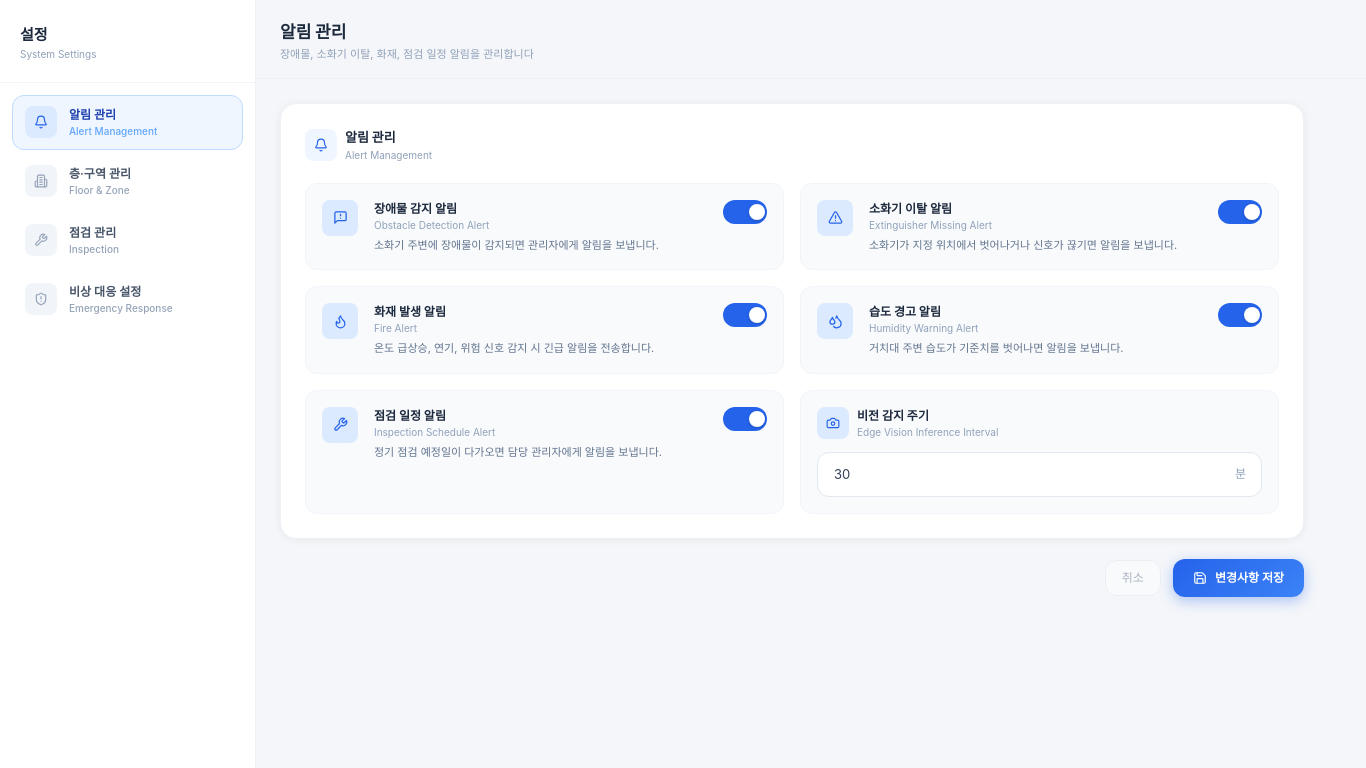
Scenario: Settings › enables the cancel button only after a toggle is changed, and cancel reverts it
Expected: the text "장애물 감지 알림" is shown, [374,200,457,216]
Expected: the button "취소" is disabled, [1105,560,1161,596]
What coordinates should you click on to do the following:
click the button without text in the row of "화재 발생 알림"
I would click on:
 (745, 315)
Its box is [723,303,767,327].
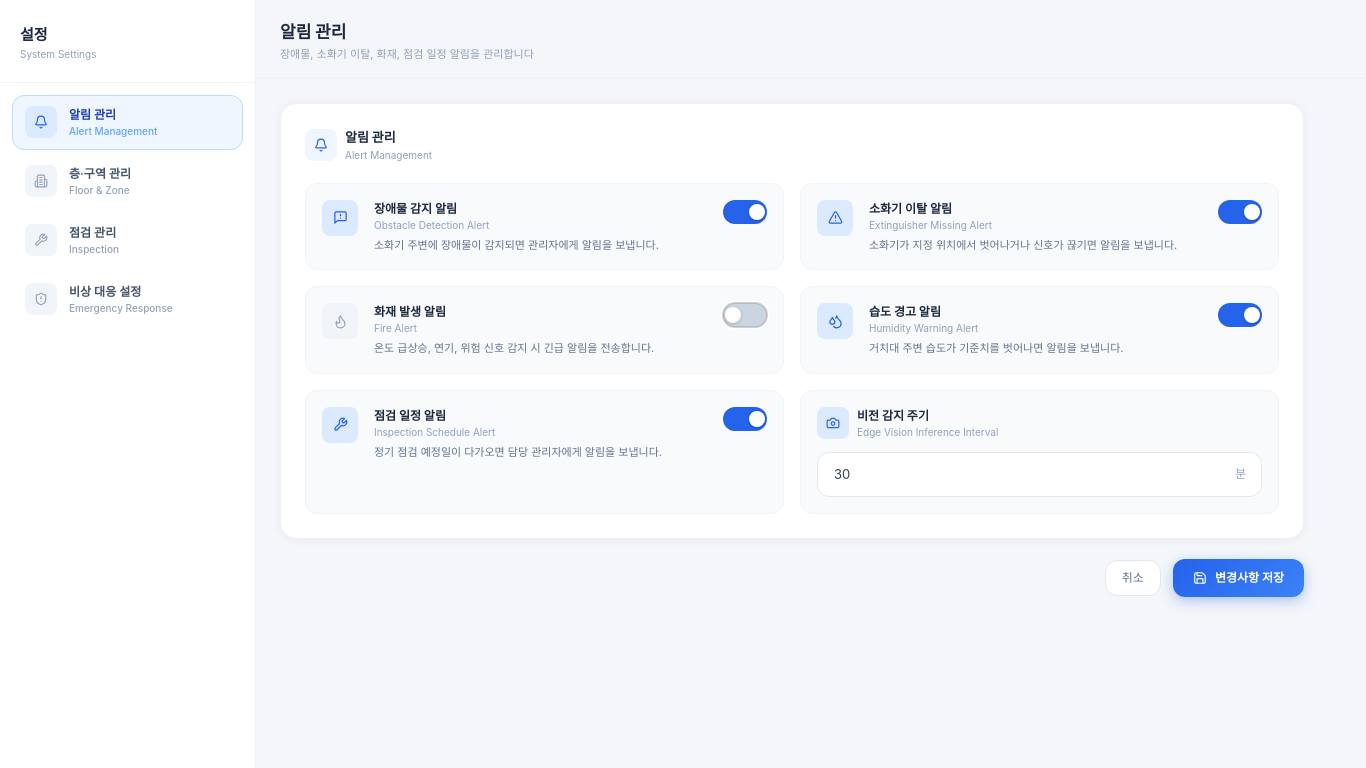
Result: the button "취소" is enabled
What coordinates should you click on to do the following:
click the button "취소"
I would click on:
 (1133, 578)
Its box is [1105,560,1161,596].
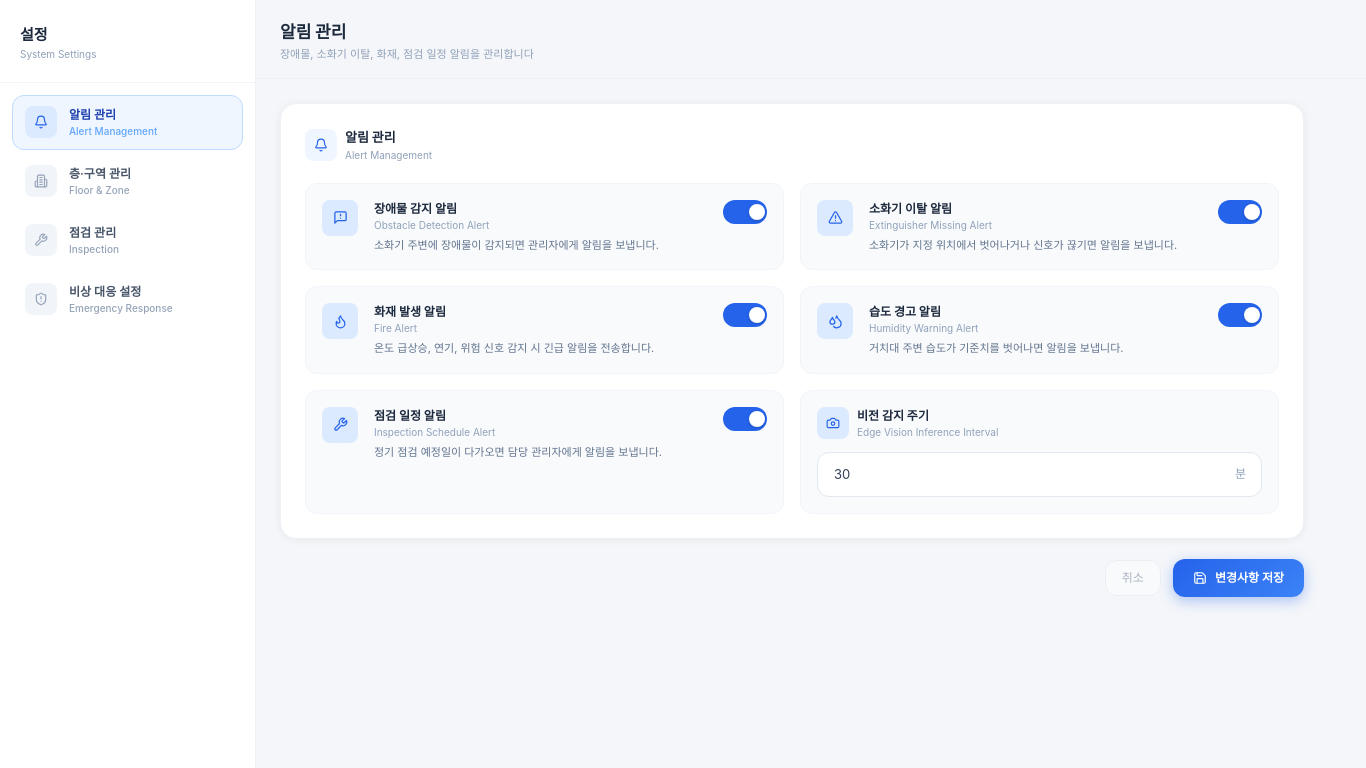
Result: the button "취소" is disabled at [1105,560,1161,596]
